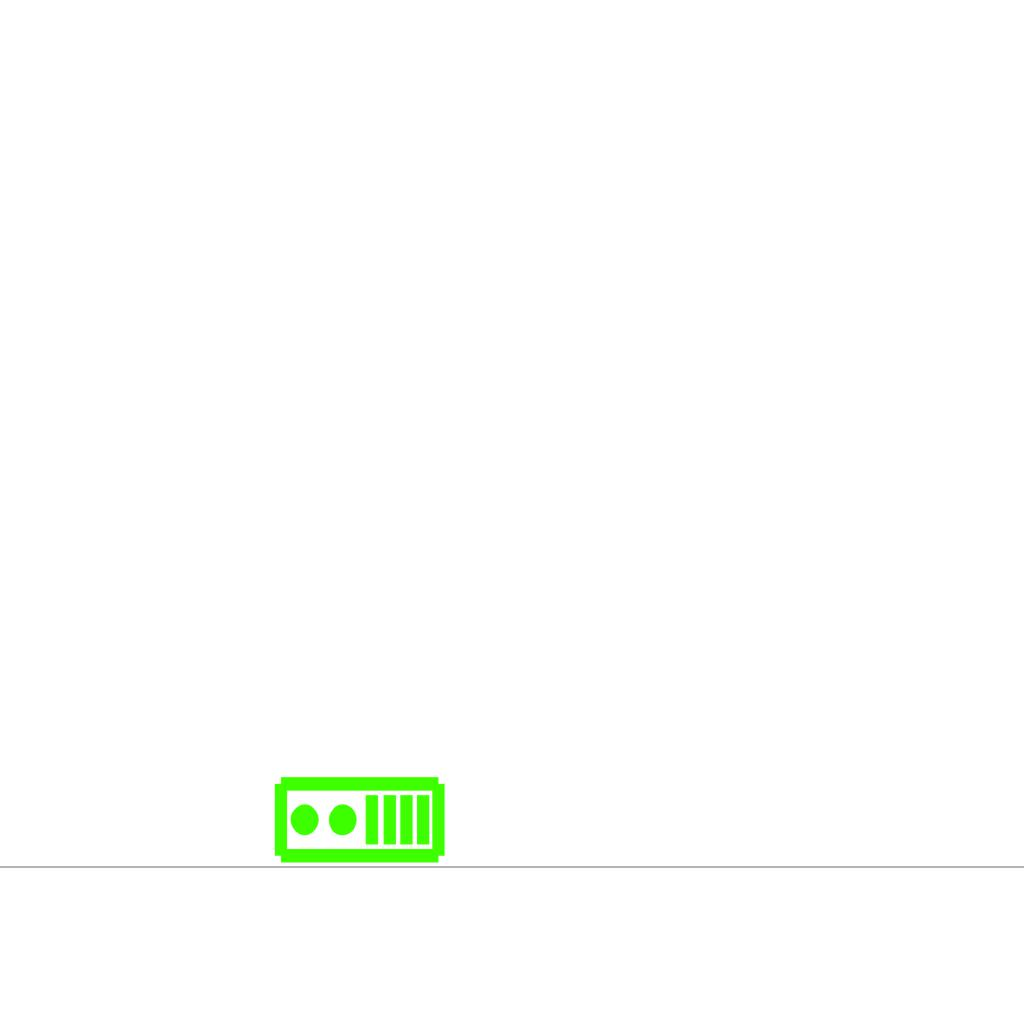Gegensprechanlage_mit_Video: (271, 774, 447, 869)
